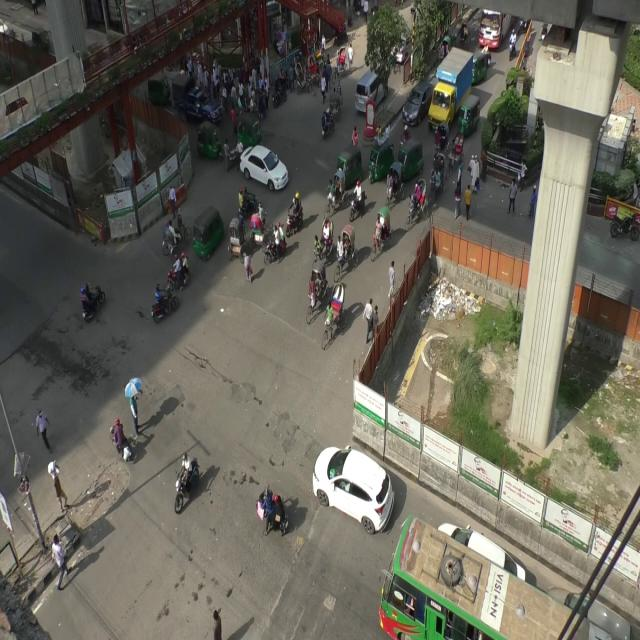cng: (194, 197, 226, 263), (193, 120, 226, 167), (334, 146, 363, 195), (364, 141, 394, 183), (398, 141, 426, 183), (235, 113, 264, 152), (457, 93, 480, 140), (470, 46, 491, 88)
rikshaw: (320, 282, 348, 346), (368, 203, 394, 266), (337, 220, 359, 283), (161, 215, 192, 259), (404, 179, 429, 232), (307, 258, 326, 324), (326, 164, 348, 216), (316, 215, 339, 263), (427, 152, 447, 206), (252, 203, 273, 251), (228, 212, 247, 260), (331, 42, 350, 88), (384, 162, 402, 204), (448, 134, 468, 171), (293, 59, 313, 95), (433, 122, 451, 154), (313, 38, 328, 68), (307, 52, 320, 84)
